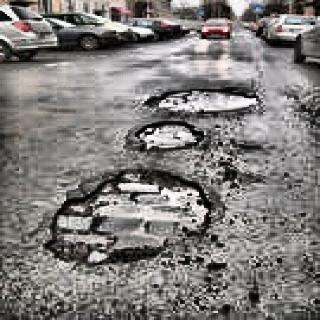pothole: (44, 166, 212, 266), (143, 86, 260, 117), (133, 117, 211, 153)
